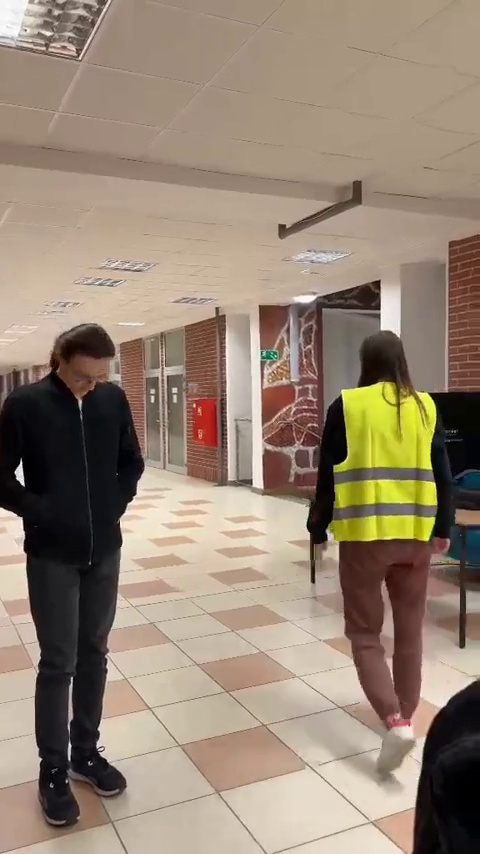no vest: (0, 310, 145, 831)
vest: (302, 328, 460, 773)
